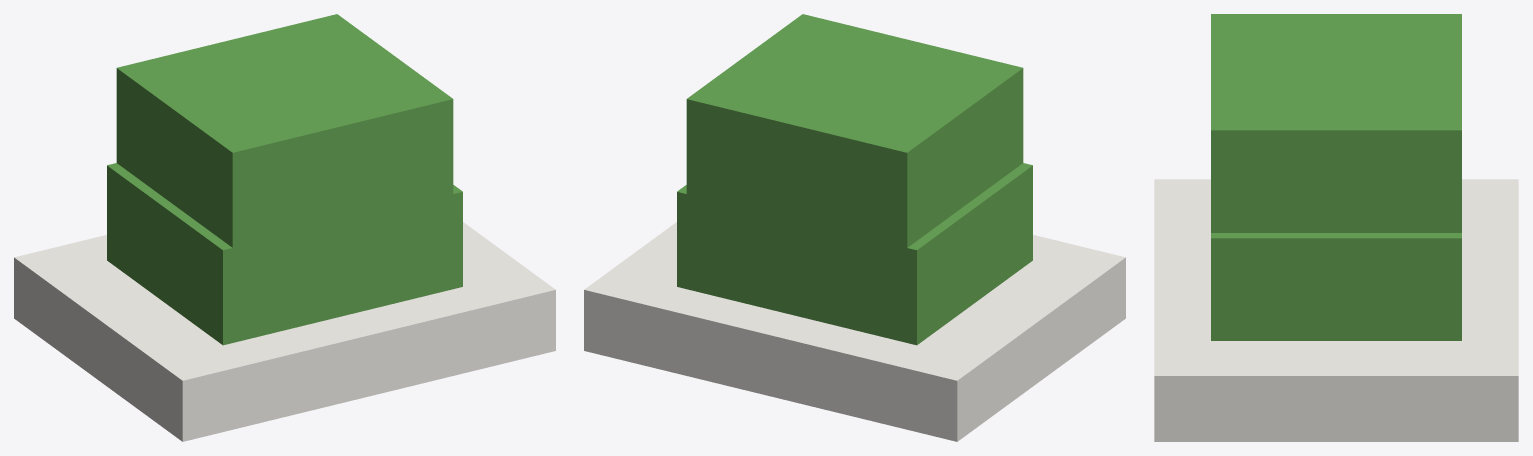
File: indoor_garden-lv2.glb
3 renders of one model, left to right at view 1: azimuth 30°, elevation 25°; view 2: azimuth 150°, elevation 25°; view 3: azimuth 270°, elevation 25°, orthographic. The views are drawn at different scales.
Parts seen in each view (by area): view 1: Level2, Base, Level1; view 2: Level2, Base, Level1; view 3: Base, Level2, Level1.
Boxes of the visible parts, x1,y1,x2,y2 form: Level2: (116,14,453,247); Base: (14,222,555,441); Level1: (107,163,462,345); Level2: (686,14,1023,247); Base: (584,222,1125,441); Level1: (677,163,1032,345); Base: (1154,179,1518,441); Level2: (1211,14,1461,232); Level1: (1211,233,1461,340).
Size of the model in its own units: 1.15 by 0.74 by 0.9.
